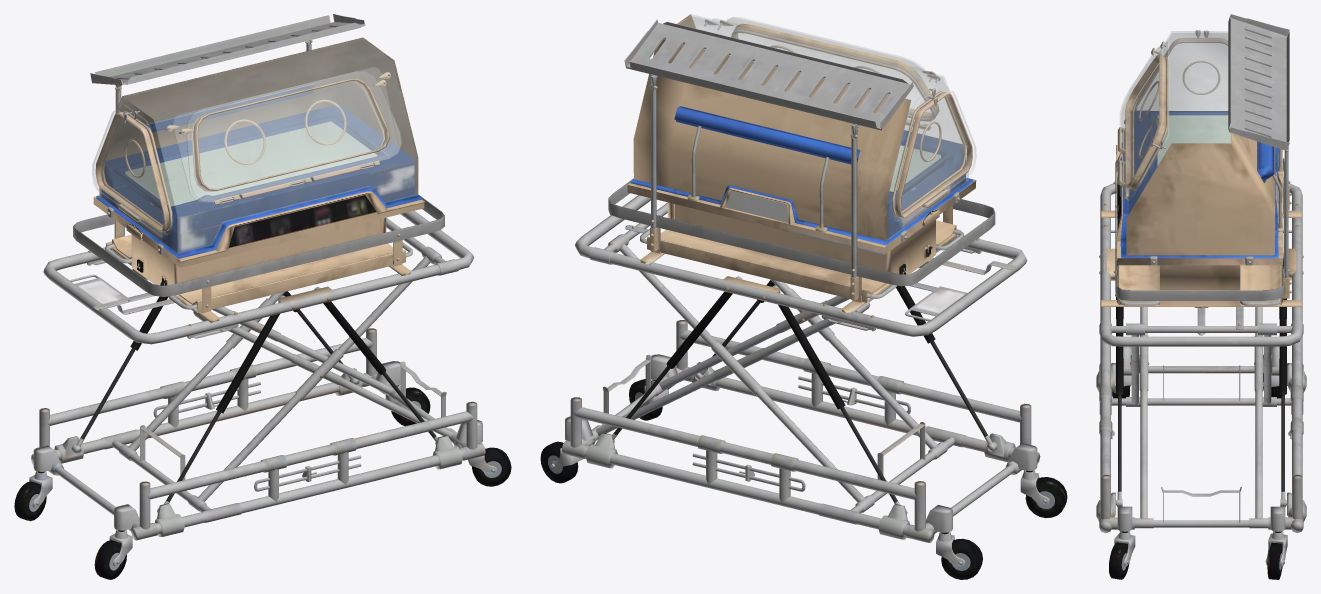
Rendered from OBJ-incubator.glb.
3 renders of one model, left to right at view 1: azimuth 30°, elevation 25°; view 2: azimuth 150°, elevation 25°; view 3: azimuth 270°, elevation 25°, orthographic. The views are drawn at different scales.
Visible parts, largest first — view 1: object 1, VitreExt_low_blinn1_0, Plexi_low_blinn1_0, VitreInt_low_blinn1_0, object 5; view 2: object 1, Plexi_low_blinn1_0, VitreExt_low_blinn1_0, VitreInt_low_blinn1_0; view 3: object 1, Plexi_low_blinn1_0, VitreExt_low_blinn1_0, VitreInt_low_blinn1_0.
Part boxes in pixels (left/top/right/bottom): object 1: left=14, top=14, right=511, bottom=579; VitreExt_low_blinn1_0: left=92, top=71, right=401, bottom=236; Plexi_low_blinn1_0: left=100, top=38, right=417, bottom=253; VitreInt_low_blinn1_0: left=101, top=67, right=398, bottom=234; object 5: left=141, top=84, right=315, bottom=134; object 1: left=540, top=14, right=1067, bottom=579; Plexi_low_blinn1_0: left=665, top=14, right=968, bottom=240; VitreExt_low_blinn1_0: left=726, top=17, right=976, bottom=222; VitreInt_low_blinn1_0: left=712, top=18, right=966, bottom=221; object 1: left=1096, top=14, right=1306, bottom=579; Plexi_low_blinn1_0: left=1127, top=31, right=1230, bottom=216; VitreExt_low_blinn1_0: left=1120, top=45, right=1162, bottom=197; VitreInt_low_blinn1_0: left=1126, top=41, right=1168, bottom=200.
Size of the model in its own units: 1.19 by 1.2 by 0.5466.
Materials: 3 (3 with a texture image).
